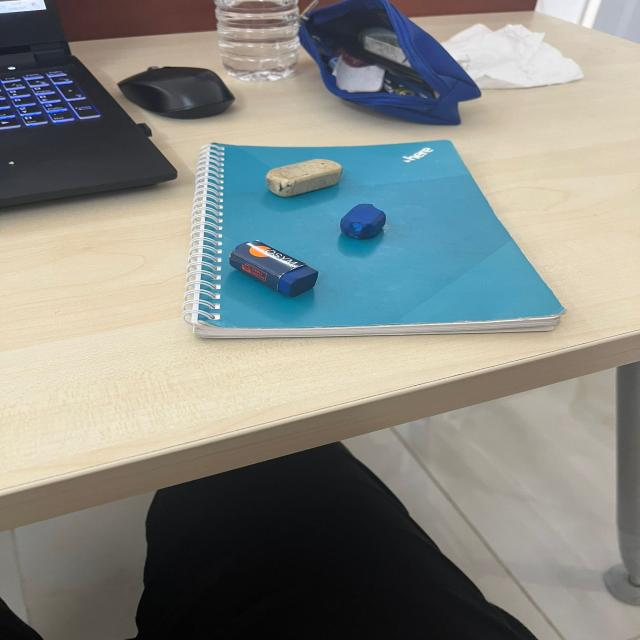eraser: (219, 226, 329, 303), (247, 156, 360, 202), (335, 192, 395, 244)
